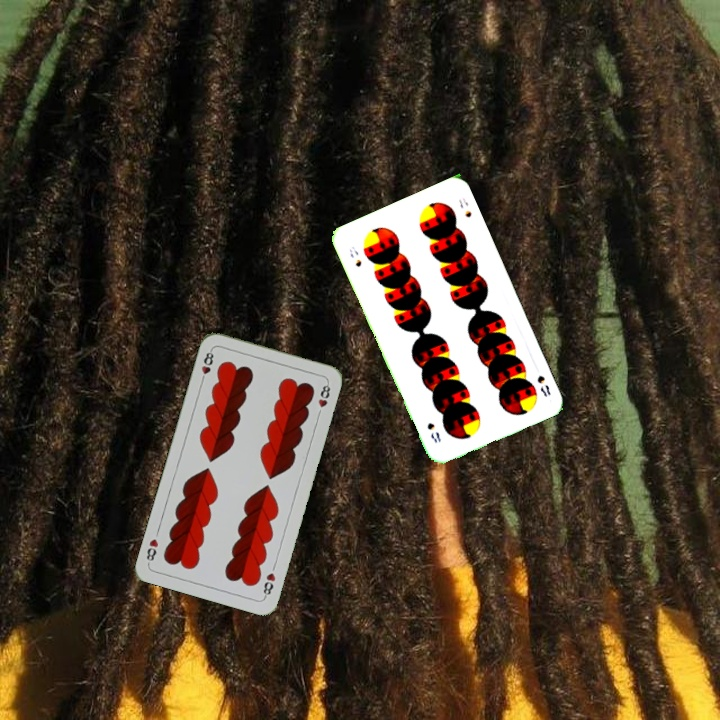H8: (197, 346, 216, 385), (259, 569, 278, 600)
S8: (533, 371, 553, 400), (344, 242, 364, 270)
